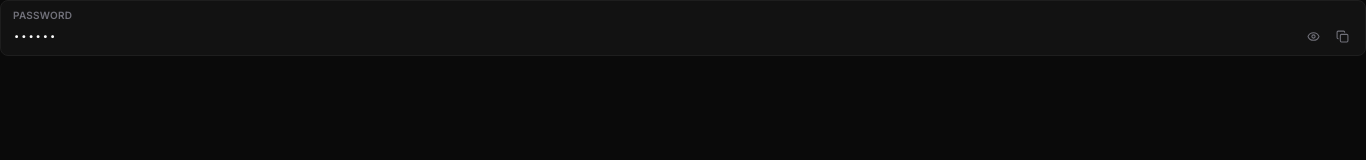
CredentialField (Task 4) › masks a secret until revealed, then shows it
Expected: the text "s3cr3t" is not shown
Click the button named "Reveal value" at coordinates (1314, 36), box [1303, 26, 1324, 47]
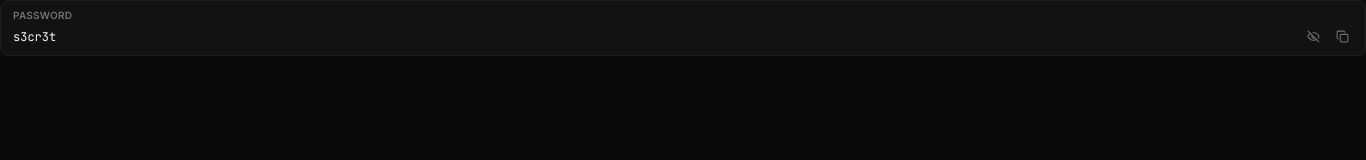
Now the text "s3cr3t" is shown, box [13, 28, 56, 44]
Note: Toggle back to hidden.
Click the button named "Hide value" at coordinates (1314, 36), box [1303, 26, 1324, 47]
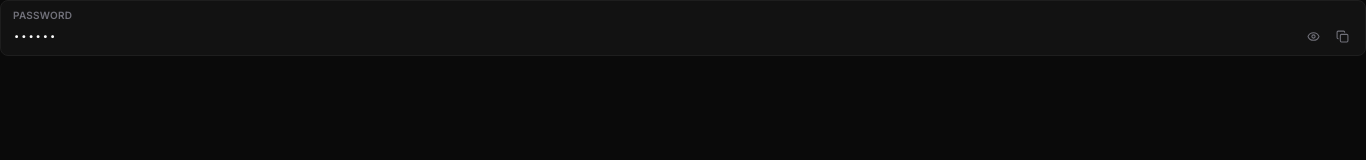
Now the text "s3cr3t" is gone
